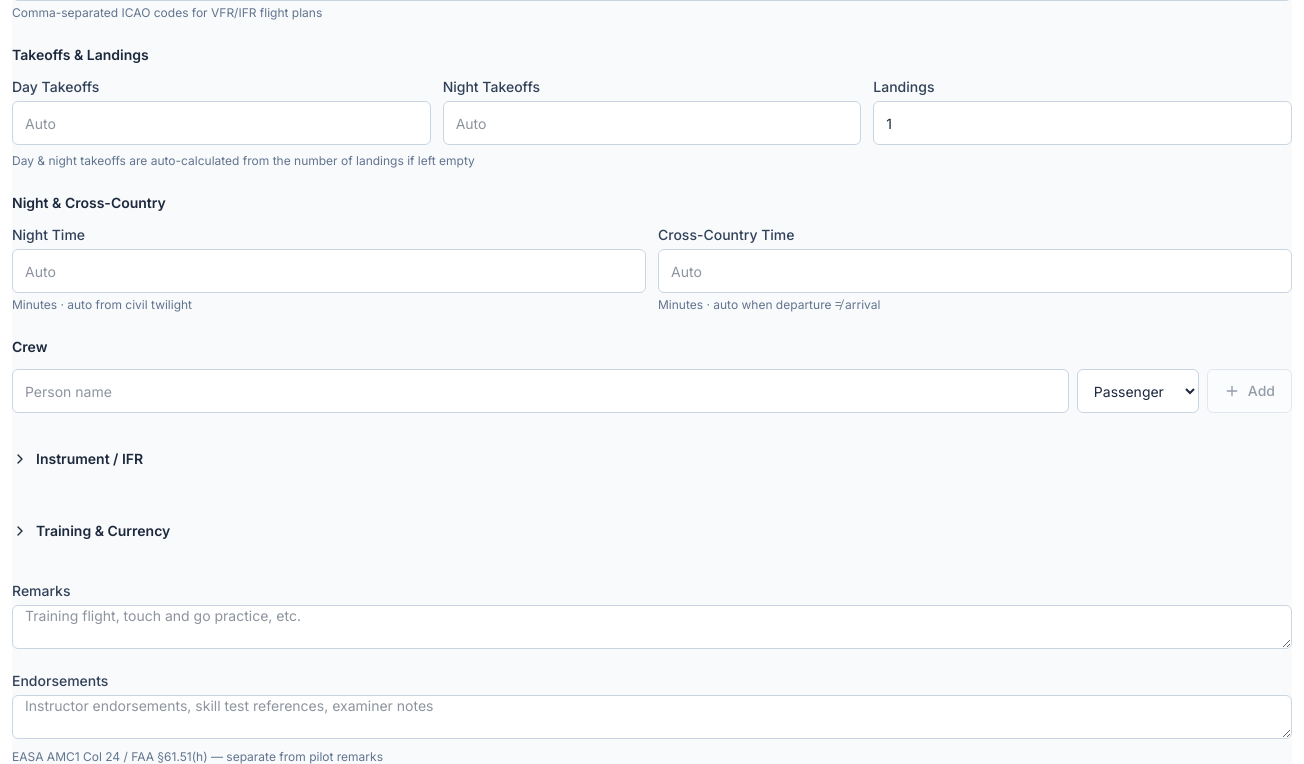
Test: FlightForm Crew Section › shows crew role badge
(page scrolled)
Type "Test Pilot" into the dropdown with placeholder "Person name". click: (540, 391)
box: [12,369,1069,413]
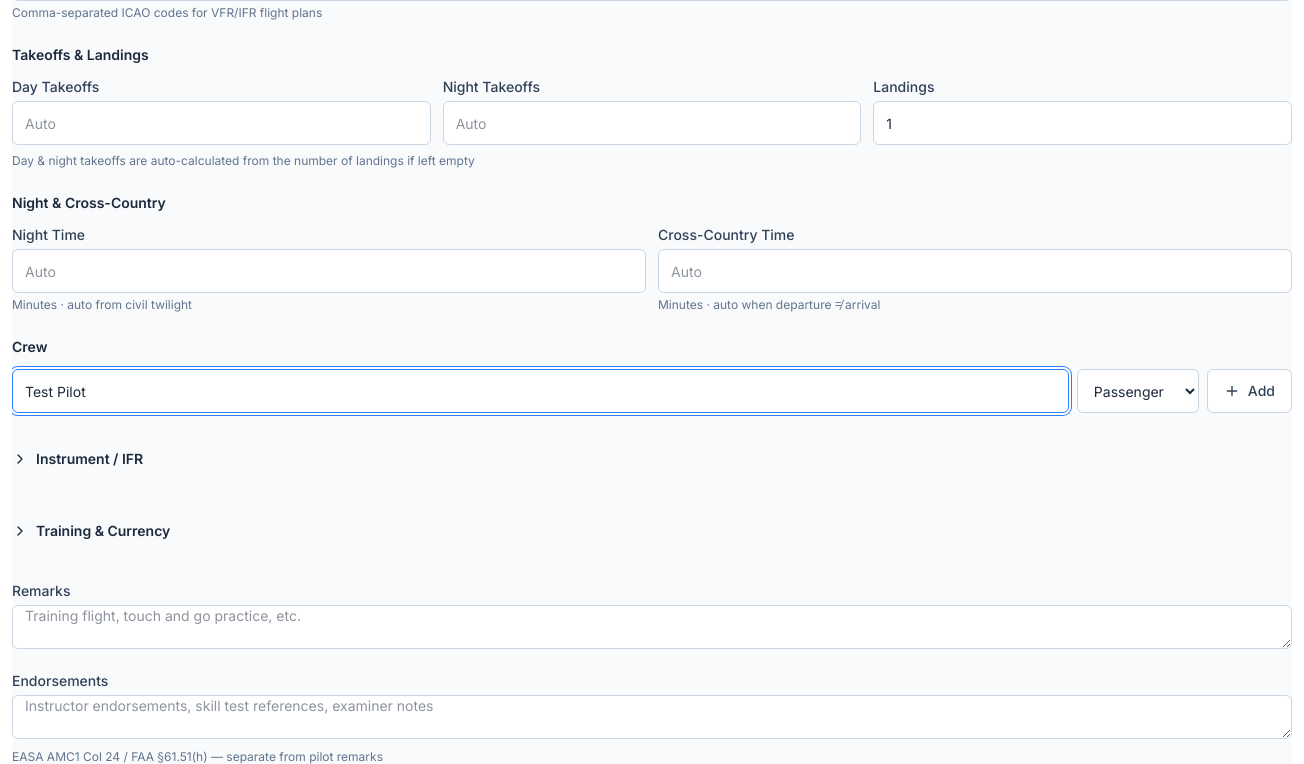
# Select Examiner role (unique text)
Select "Examiner" in the dropdown showing "Passenger". click: (1138, 391)
box: [1077,369,1199,413]
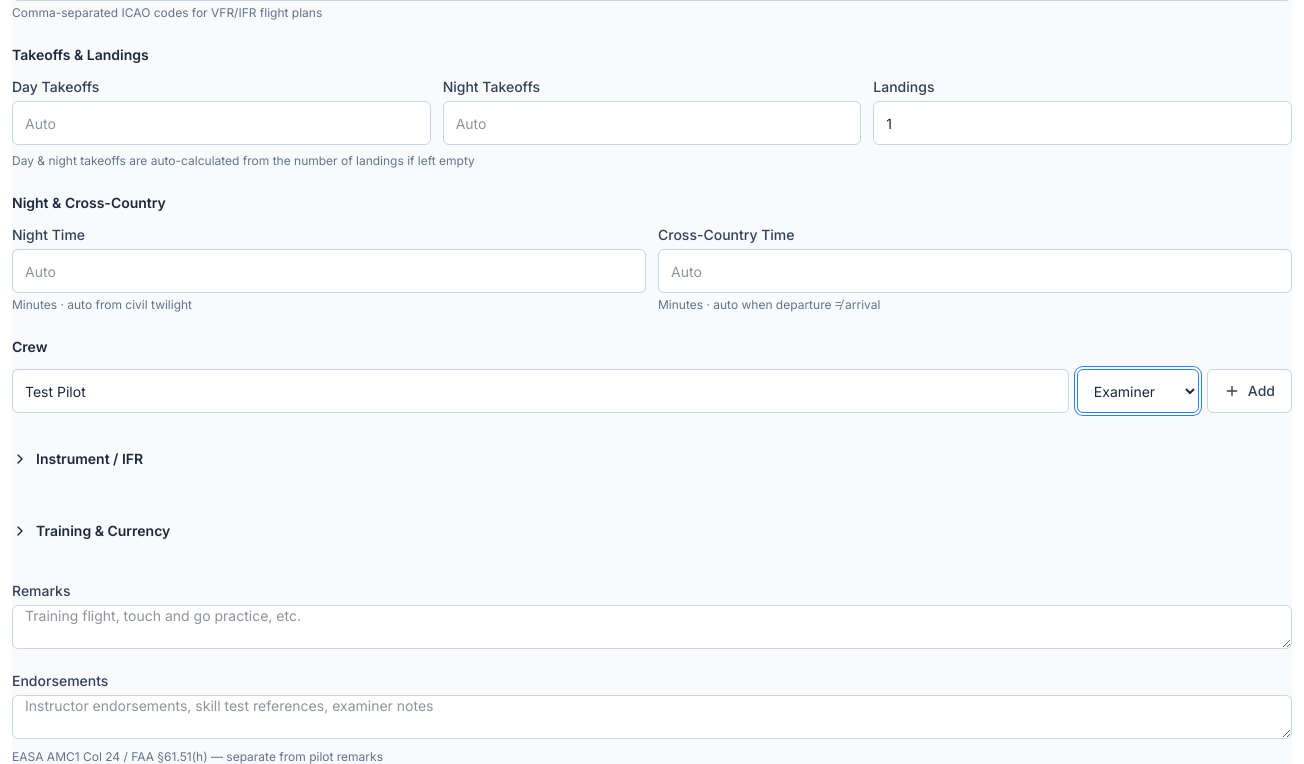
Click the button "Add". click: (1249, 391)
box: [1207,369,1292,413]
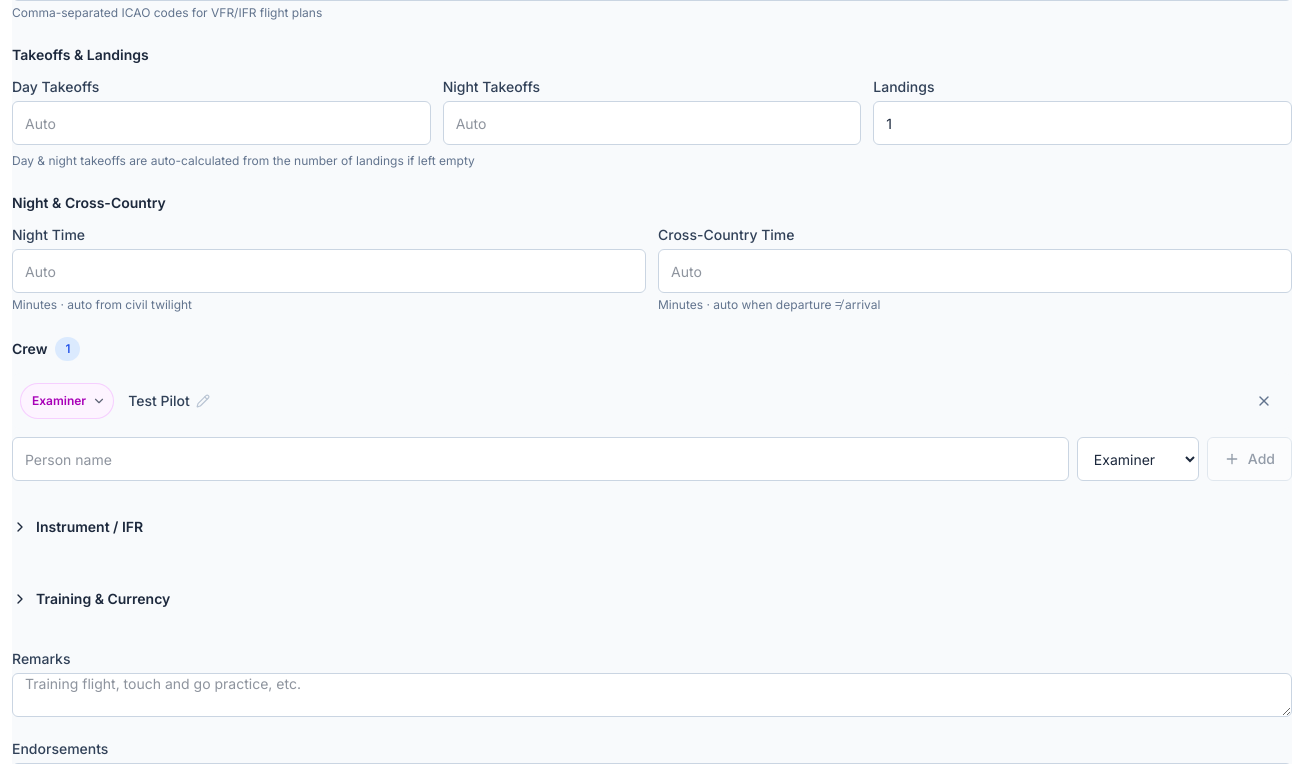
Result: the text "Test Pilot" is shown at [128,391,190,411]
